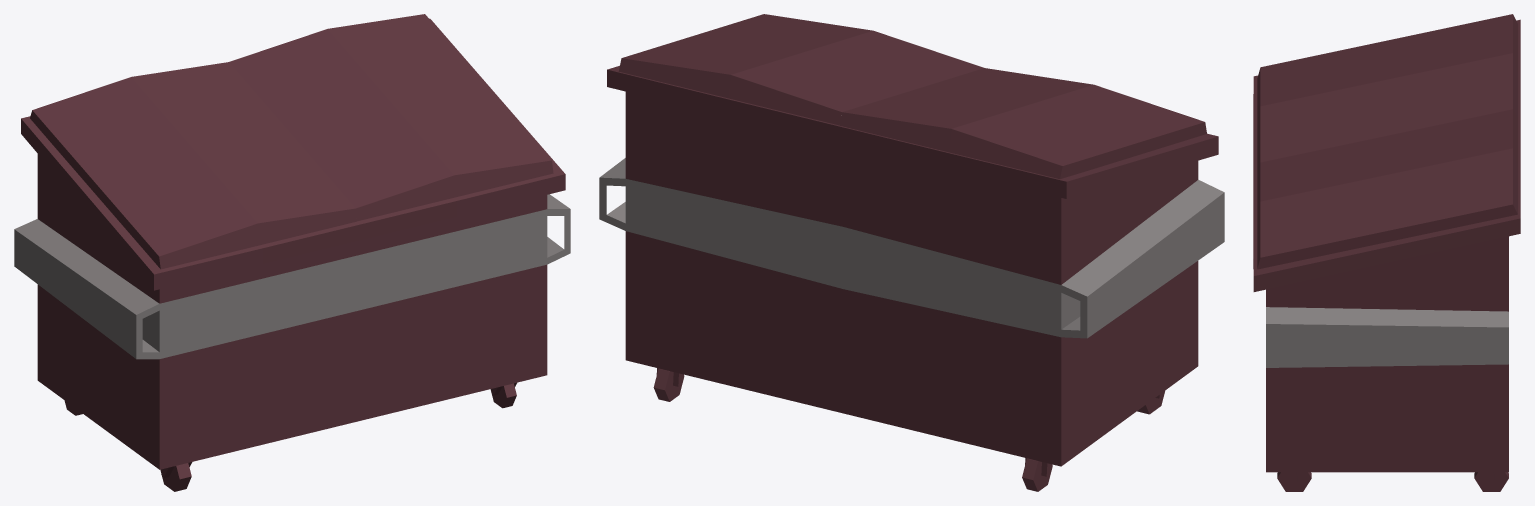
Rendered from props-dumpster.glb.
3 renders of one model, left to right at view 1: azimuth 30°, elevation 25°; view 2: azimuth 150°, elevation 25°; view 3: azimuth 270°, elevation 25°, orthographic. The views are drawn at different scales.
Visible parts, largest first — view 1: dumpster; view 2: dumpster; view 3: dumpster.
Boxes of the visible parts, x1,y1,x2,y2 form: dumpster: [14, 14, 570, 491]; dumpster: [599, 14, 1224, 491]; dumpster: [1253, 14, 1520, 491].
Size of the model in its own units: 2.05 by 1.42 by 1.1.
